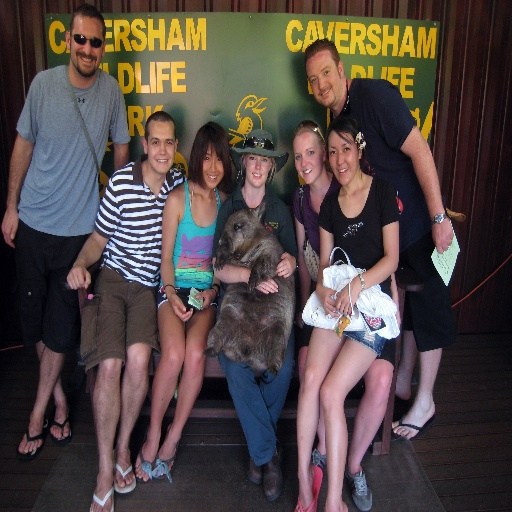hand: (428, 196, 461, 264), (335, 275, 359, 316), (314, 285, 341, 317), (246, 270, 279, 296), (66, 259, 91, 292), (168, 293, 194, 323), (1, 210, 19, 248), (275, 252, 296, 277), (195, 289, 215, 311), (295, 310, 306, 329), (394, 302, 401, 330)
